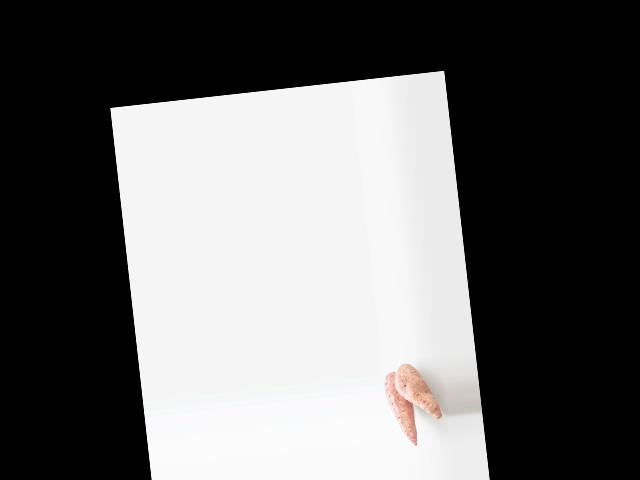sweet_potato: (383, 370, 417, 443)
